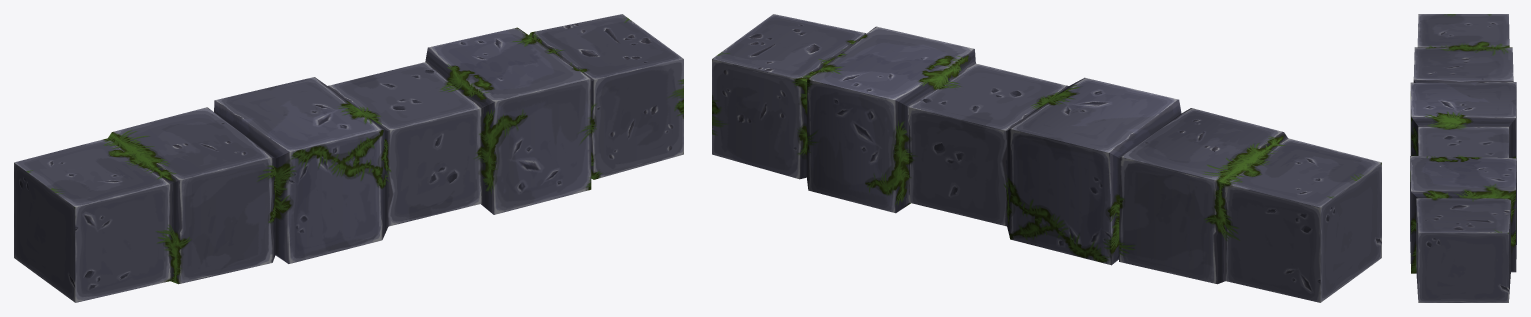
Rendered from MOD_WallCover_01_M_straight.fbx.
The picture shows the model from 3 angles, left to right: view 1: azimuth 30°, elevation 25°; view 2: azimuth 150°, elevation 25°; view 3: azimuth 270°, elevation 25°; orthographic projection. The views are drawn at different scales.
Parts seen in each view (by area): view 1: MOD_WallCover_01_M_straight; view 2: MOD_WallCover_01_M_straight; view 3: MOD_WallCover_01_M_straight.
Boxes of the visible parts, x1=… form: MOD_WallCover_01_M_straight: x1=14, y1=14, x2=683, y2=302; MOD_WallCover_01_M_straight: x1=712, y1=14, x2=1381, y2=302; MOD_WallCover_01_M_straight: x1=1410, y1=14, x2=1516, y2=302.
Bounding box in the file's own units: 400 × 70.89 × 82.59.
